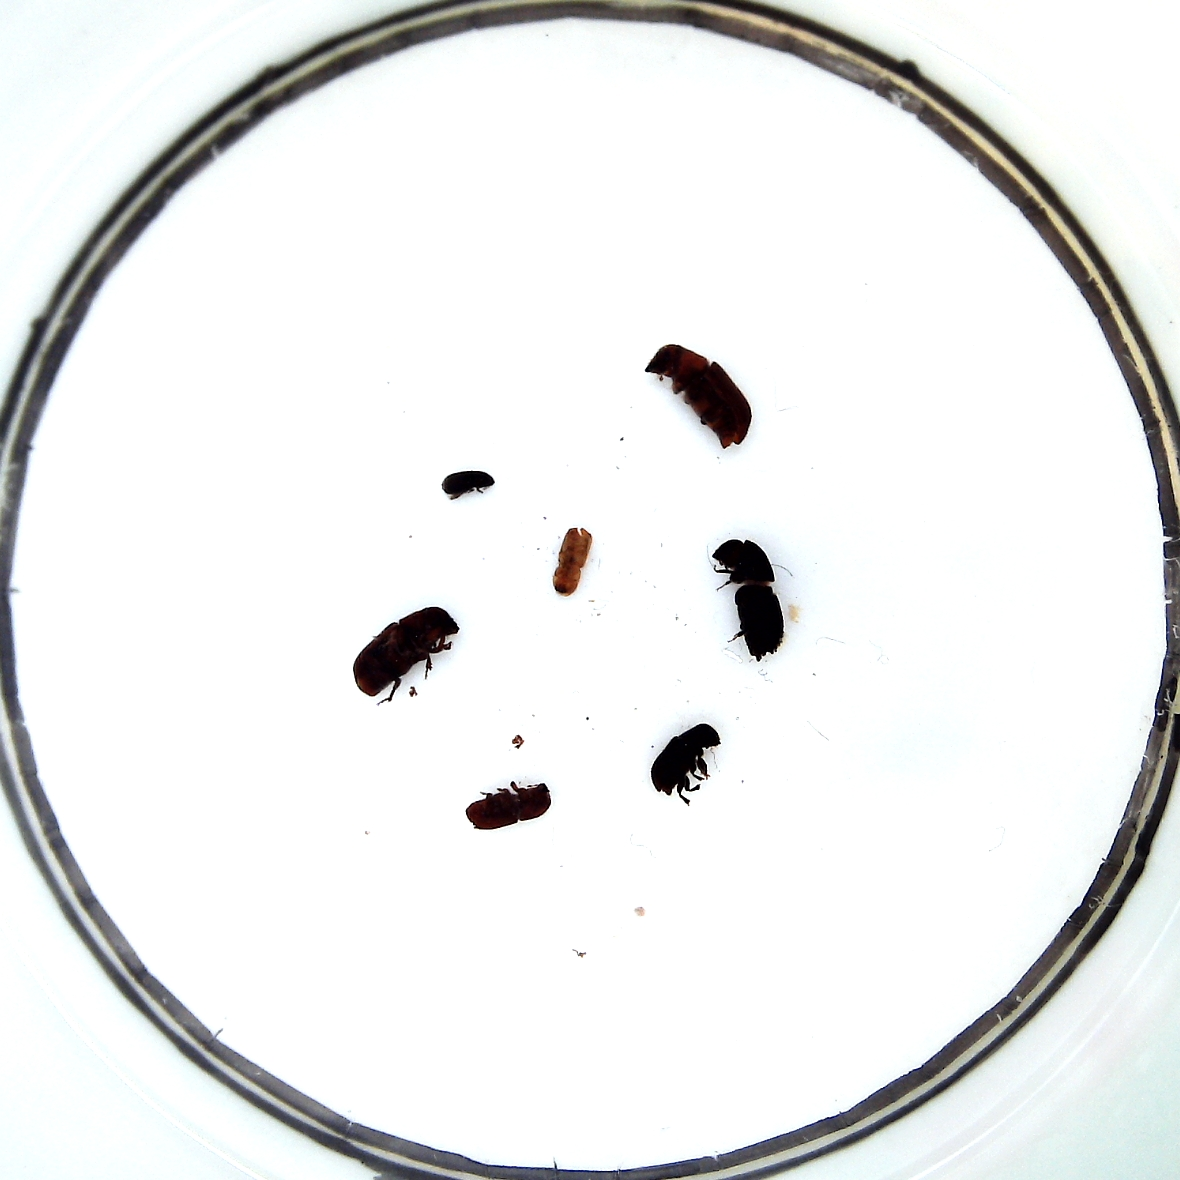Boerner: (712, 539, 785, 660)
Leconte: (645, 343, 751, 450), (354, 606, 458, 698)
acuminatus: (442, 470, 495, 496)
armandi: (652, 724, 722, 796)
coleoptera: (553, 528, 593, 596)
linnaeus: (465, 783, 552, 830)
